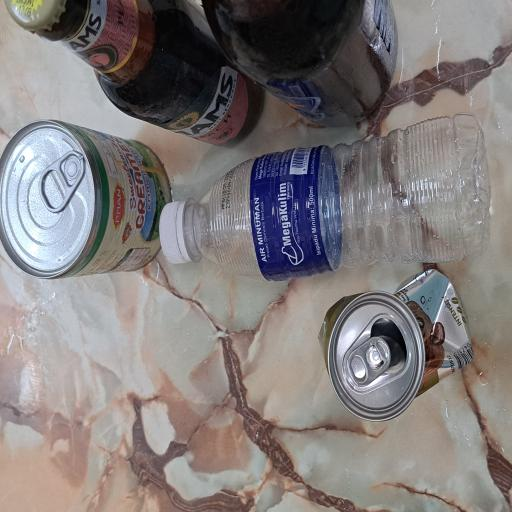can: (175, 0, 295, 227), (68, 425, 185, 512)
glass bottle: (274, 8, 384, 350), (290, 267, 384, 512)
plastic bottle: (173, 210, 299, 512)
plastic bottle cap: (183, 213, 234, 257)
pop tab: (225, 51, 273, 118), (90, 456, 133, 512)
